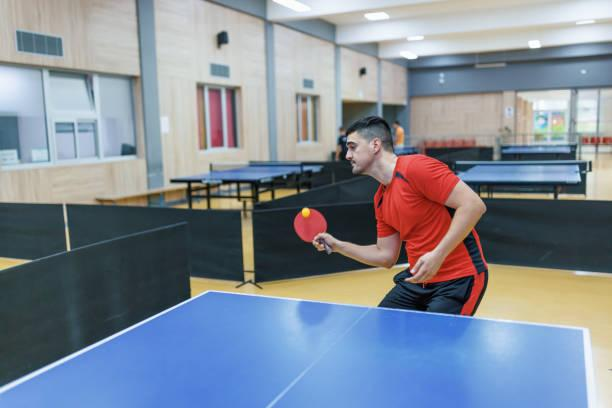ball_pingpong: (301, 208, 311, 218)
